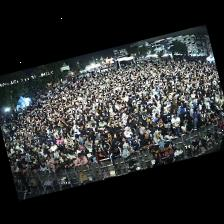person: (109, 145, 122, 170), (171, 114, 181, 135), (96, 148, 108, 165), (198, 104, 208, 122), (141, 133, 153, 148), (151, 122, 161, 139), (75, 154, 88, 167), (62, 156, 74, 169), (162, 128, 175, 140), (123, 144, 134, 158), (164, 109, 171, 128), (154, 130, 164, 143), (139, 127, 149, 140), (181, 102, 189, 118), (197, 116, 207, 128), (103, 138, 111, 153), (125, 126, 132, 143), (131, 139, 140, 152), (133, 115, 142, 128), (30, 162, 40, 173), (64, 144, 74, 155), (194, 107, 199, 128), (39, 160, 47, 173), (132, 133, 140, 146), (181, 120, 189, 133), (112, 134, 121, 145), (54, 158, 62, 170), (187, 117, 194, 130), (59, 152, 68, 162), (120, 137, 130, 146), (85, 141, 93, 152), (56, 134, 64, 145), (69, 151, 77, 162), (209, 111, 217, 122), (109, 123, 117, 134), (87, 153, 96, 162), (45, 155, 54, 164), (80, 146, 88, 156), (136, 123, 142, 136), (12, 164, 20, 173), (122, 113, 128, 125), (47, 164, 56, 172), (66, 137, 74, 146), (105, 132, 112, 142), (30, 155, 38, 163), (154, 159, 163, 166), (54, 148, 60, 158), (216, 111, 223, 119), (95, 140, 102, 148), (92, 145, 96, 157), (27, 164, 31, 176), (190, 105, 194, 117), (49, 150, 54, 158), (76, 146, 81, 153)
